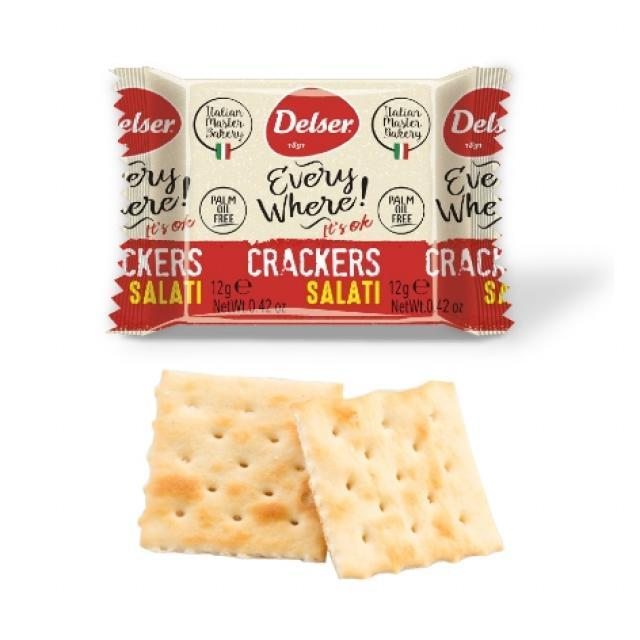Cracker: (125, 373, 361, 579), (289, 384, 513, 580)
